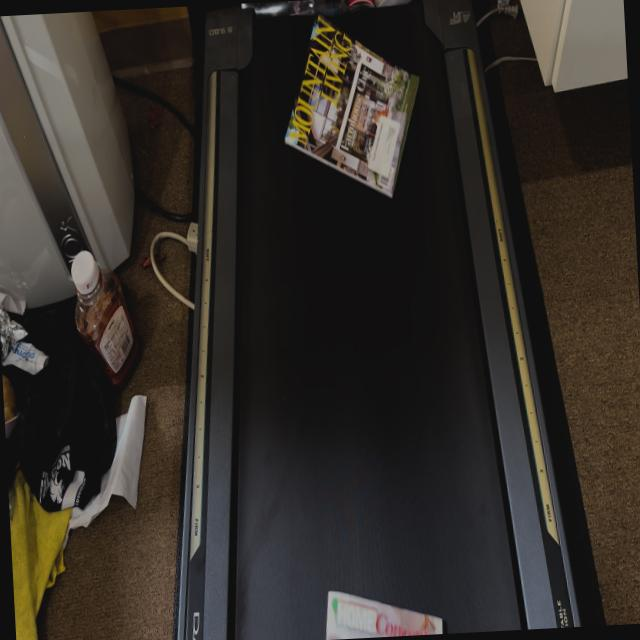Recycle: (276, 19, 433, 208), (317, 567, 461, 640)
